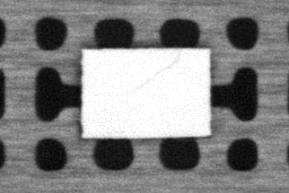DIE_CRACK: (138, 52, 182, 89)
